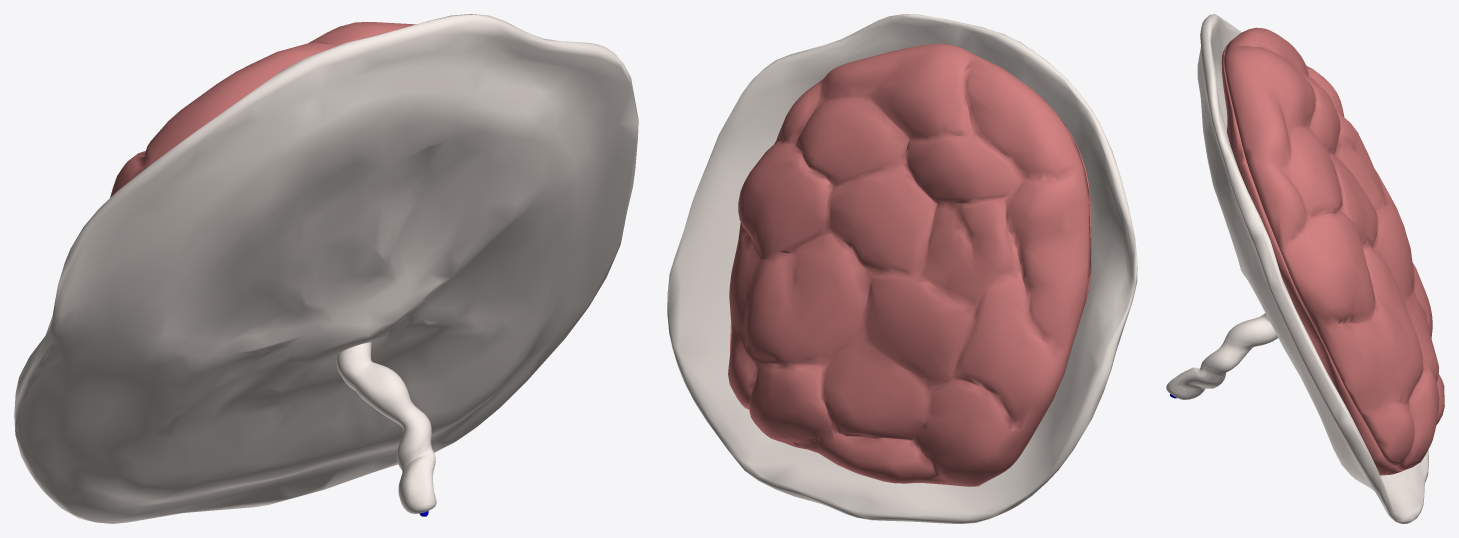
Rendered from 3d-vh-f-placenta-full-term_lod_20.glb.
The picture shows the model from 3 angles, left to right: view 1: azimuth 30°, elevation 25°; view 2: azimuth 150°, elevation 25°; view 3: azimuth 270°, elevation 25°; orthographic projection. The views are drawn at different scales.
Parts seen in each view (by area): view 1: VH_F_amnion, VH_F_basal_plate, VH_F_umbilical_cord; view 2: VH_F_basal_plate, VH_F_amnion; view 3: VH_F_basal_plate, VH_F_amnion, VH_F_chorionic_plate, VH_F_umbilical_cord.
Boxes of the visible parts, left/top/right/bottom form: VH_F_amnion: left=14, top=14, right=638, bottom=523; VH_F_basal_plate: left=110, top=22, right=415, bottom=197; VH_F_umbilical_cord: left=336, top=342, right=436, bottom=513; VH_F_basal_plate: left=728, top=43, right=1090, bottom=486; VH_F_amnion: left=667, top=14, right=1137, bottom=523; VH_F_basal_plate: left=1224, top=27, right=1444, bottom=471; VH_F_amnion: left=1197, top=14, right=1428, bottom=523; VH_F_chorionic_plate: left=1221, top=44, right=1401, bottom=475; VH_F_umbilical_cord: left=1166, top=313, right=1277, bottom=399.
Bounding box in the file's own units: 0.251 × 0.2306 × 0.1338.
